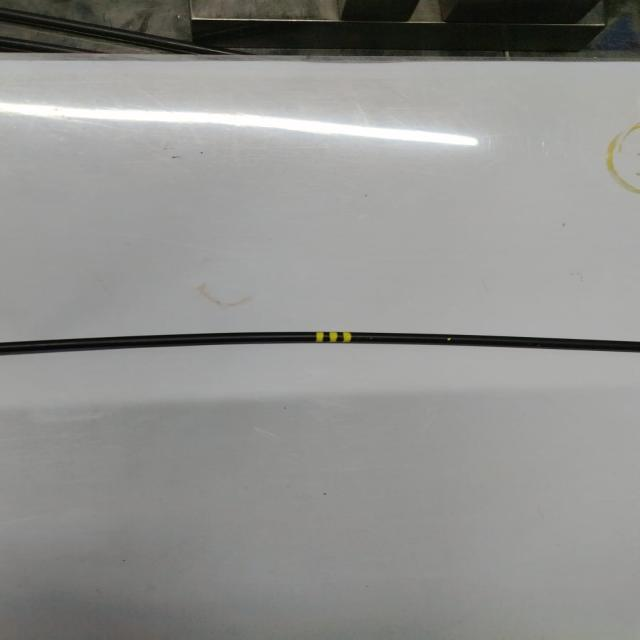yellow: (316, 332, 351, 342)
